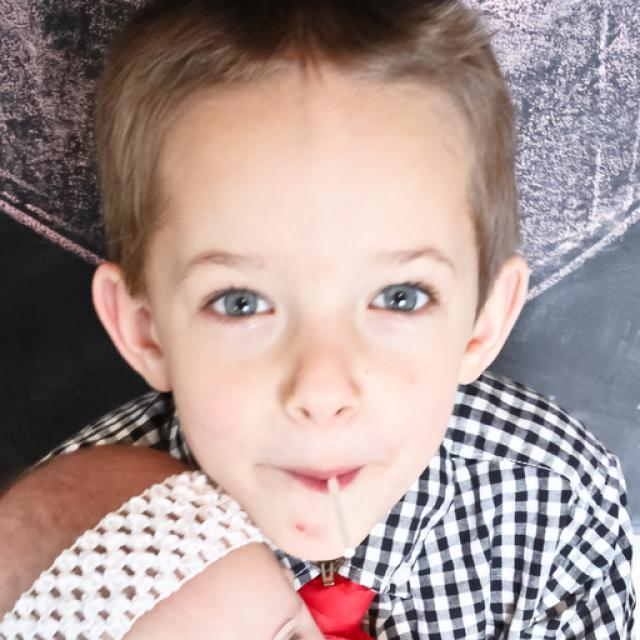0_rostro_limpio: (93, 0, 526, 561)
